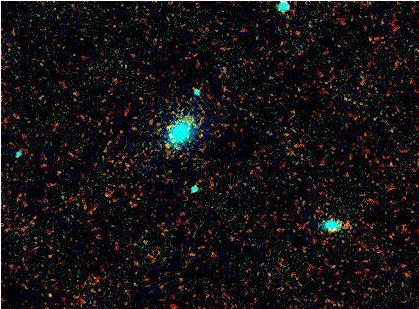star: (34, 281, 64, 309)
